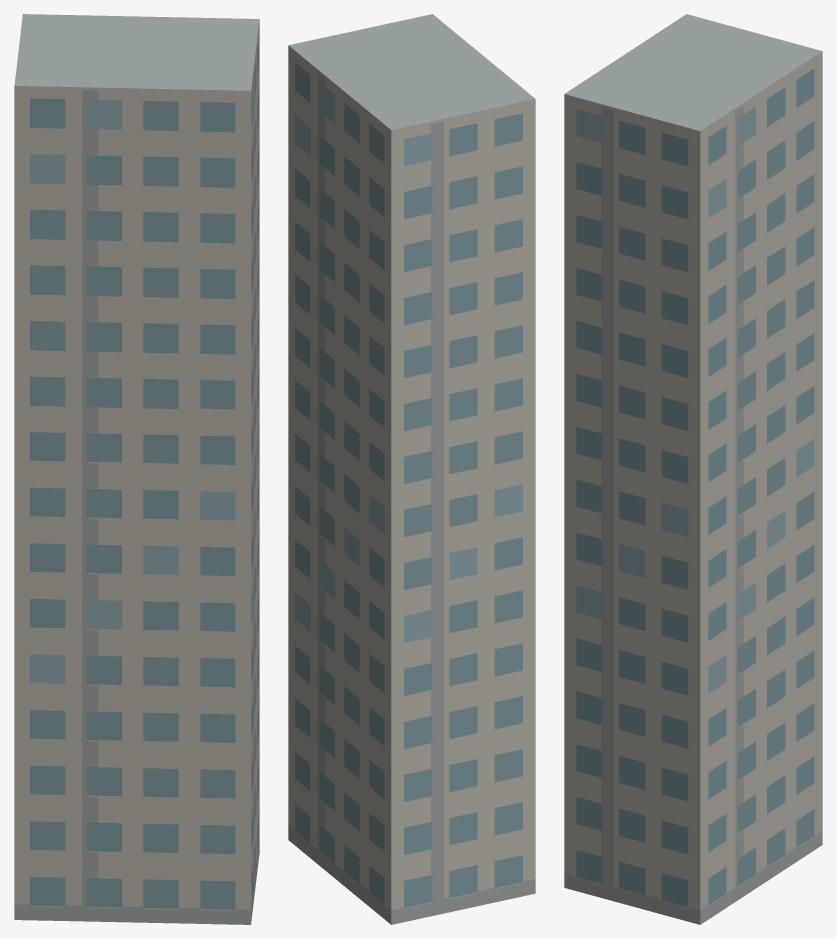
Rendered from residential-33340d80-46cd-4377-93d3-da983f0f5cd7.glb.
The picture shows the model from 3 angles, left to right: view 1: azimuth 30°, elevation 25°; view 2: azimuth 150°, elevation 25°; view 3: azimuth 270°, elevation 25°; orthographic projection. The views are drawn at different scales.
Visible parts, largest first — view 1: residential-33340d80-46cd-4377-93d3-da983f0f5cd7.tmp; view 2: residential-33340d80-46cd-4377-93d3-da983f0f5cd7.tmp; view 3: residential-33340d80-46cd-4377-93d3-da983f0f5cd7.tmp.
Boxes of the visible parts, left/top/right/bottom form: residential-33340d80-46cd-4377-93d3-da983f0f5cd7.tmp: left=14, top=14, right=259, bottom=924; residential-33340d80-46cd-4377-93d3-da983f0f5cd7.tmp: left=288, top=14, right=535, bottom=924; residential-33340d80-46cd-4377-93d3-da983f0f5cd7.tmp: left=564, top=14, right=822, bottom=924.
Bounding box in the file's own units: 21.21 × 67 × 19.77.
